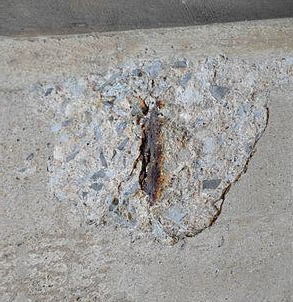Exposed reinforcement: (139, 106, 163, 203)
Spalling: (36, 55, 293, 247)
